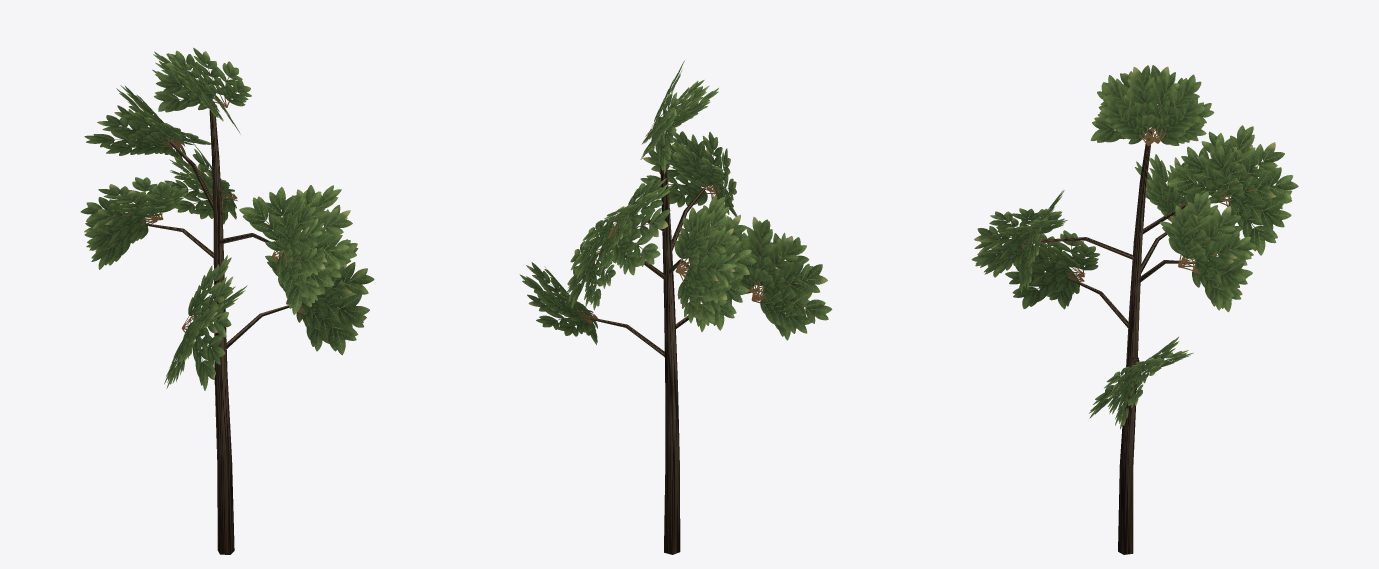
The model's file is sapling_b.glb.
3 renders of one model, left to right at view 1: azimuth 30°, elevation 25°; view 2: azimuth 150°, elevation 25°; view 3: azimuth 270°, elevation 25°, orthographic. The views are drawn at different scales.
Visible parts, largest first — view 1: leaves, wood; view 2: leaves, wood; view 3: leaves, wood.
Boxes of the visible parts, box(x1,y1,x2,y2) form: leaves: box(80, 47, 374, 390); wood: box(145, 99, 288, 554); leaves: box(519, 60, 832, 344); wood: box(582, 127, 760, 554); leaves: box(971, 65, 1298, 429); wood: box(1035, 128, 1229, 554).
Bounding box in the file's own units: 0.6384 × 0.9225 × 0.7195.
2 materials, 2 textured.
